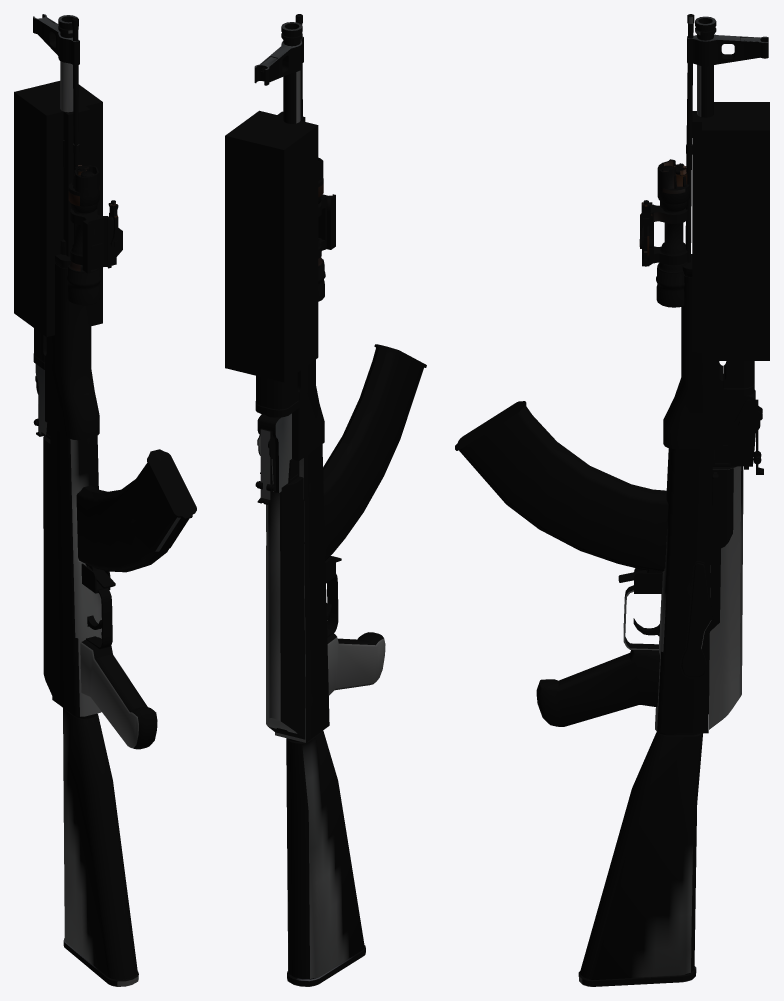
File: AK47__Handguard_AK_Quad__Light_Weapon.fbx
The picture shows the model from 3 angles, left to right: view 1: azimuth 30°, elevation 25°; view 2: azimuth 150°, elevation 25°; view 3: azimuth 270°, elevation 25°; orthographic projection. The views are drawn at different scales.
Visible parts, largest first — view 1: asset_AK47.001; view 2: asset_AK47.001; view 3: asset_AK47.001.
Part boxes in pixels (<box>): asset_AK47.001: <box>14,14,196,986</box>; asset_AK47.001: <box>225,14,426,986</box>; asset_AK47.001: <box>455,14,769,986</box>.
Size of the model in its own units: 0.0336 by 0.528 by 0.1561.
